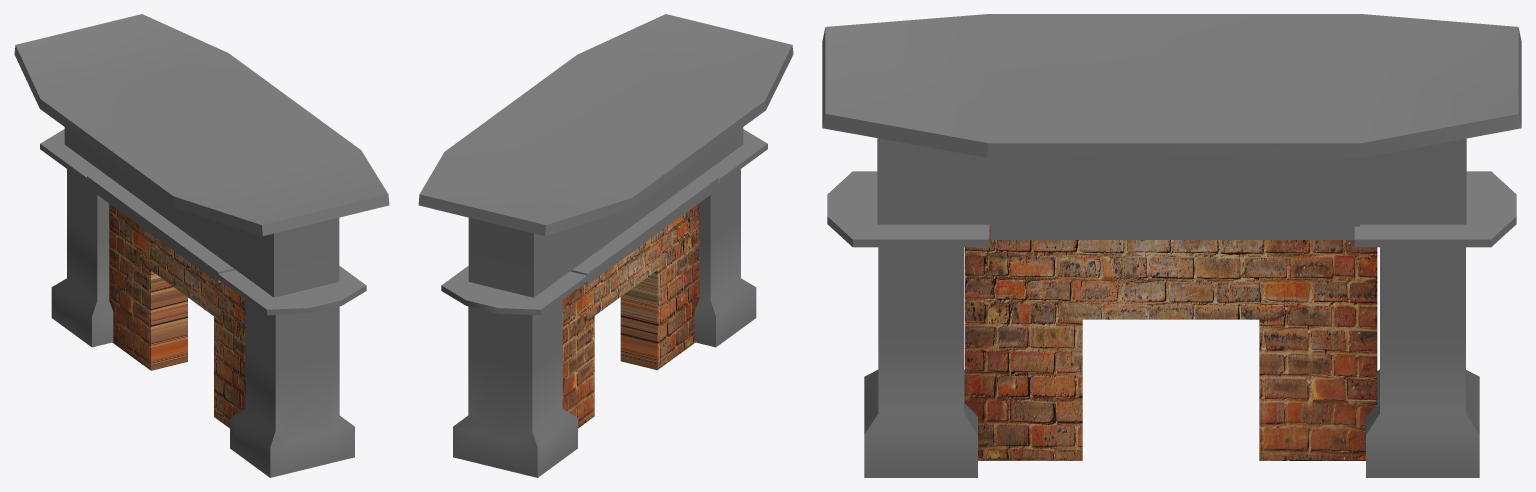
Rendered from krb.fbx.
3 views of the same model, side by side, from view 1: azimuth 30°, elevation 25°; view 2: azimuth 150°, elevation 25°; view 3: azimuth 270°, elevation 25° (orthographic). The views are drawn at different scales.
Parts seen in each view (by area): view 1: pCube38; view 2: pCube38; view 3: pCube38.
Part boxes in pixels (<box>): pCube38: <box>14,14,389,477</box>; pCube38: <box>418,14,793,477</box>; pCube38: <box>822,14,1521,477</box>.
Bounding box in the file's own units: 4.12 × 5.63 × 9.42.
